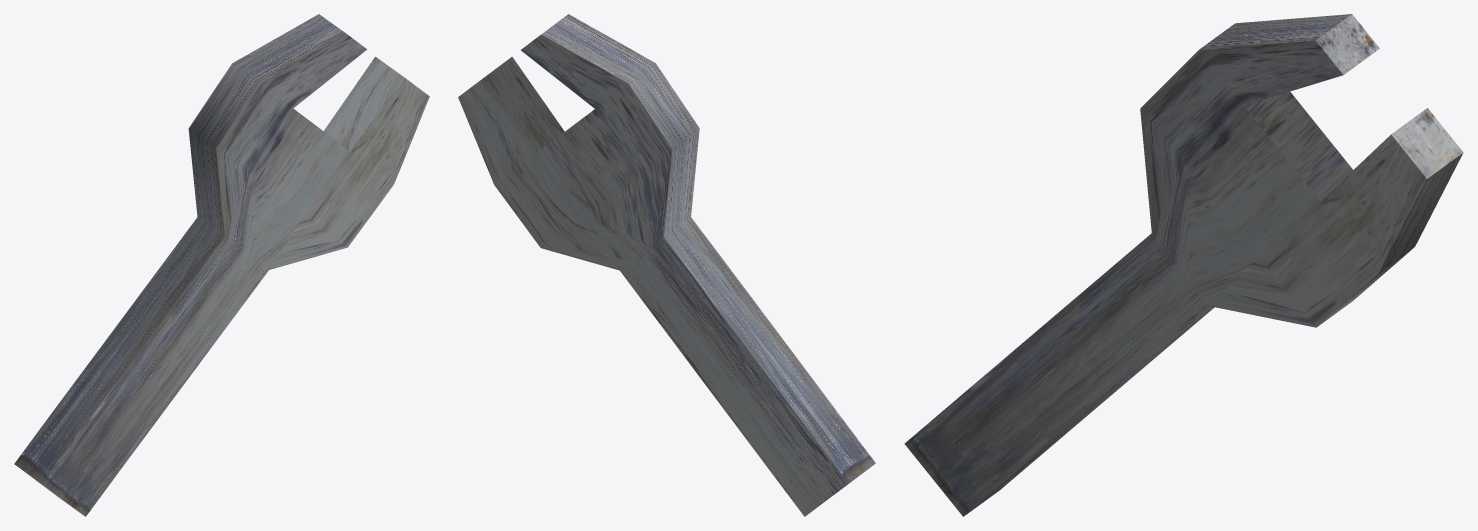
The model's file is CrappyWrench_optionsMenu.fbx.
3 renders of one model, left to right at view 1: azimuth 30°, elevation 25°; view 2: azimuth 150°, elevation 25°; view 3: azimuth 330°, elevation 25°, orthographic. The views are drawn at different scales.
Visible parts, largest first — view 1: pCube1; view 2: pCube1; view 3: pCube1.
Part boxes in pixels (left/top/right/bottom): pCube1: left=14, top=14, right=429, bottom=516; pCube1: left=458, top=14, right=875, bottom=516; pCube1: left=904, top=14, right=1463, bottom=516.
Size of the model in its own units: 1.56 by 1.6 by 0.1975.
Materials: 1 (1 with a texture image).
